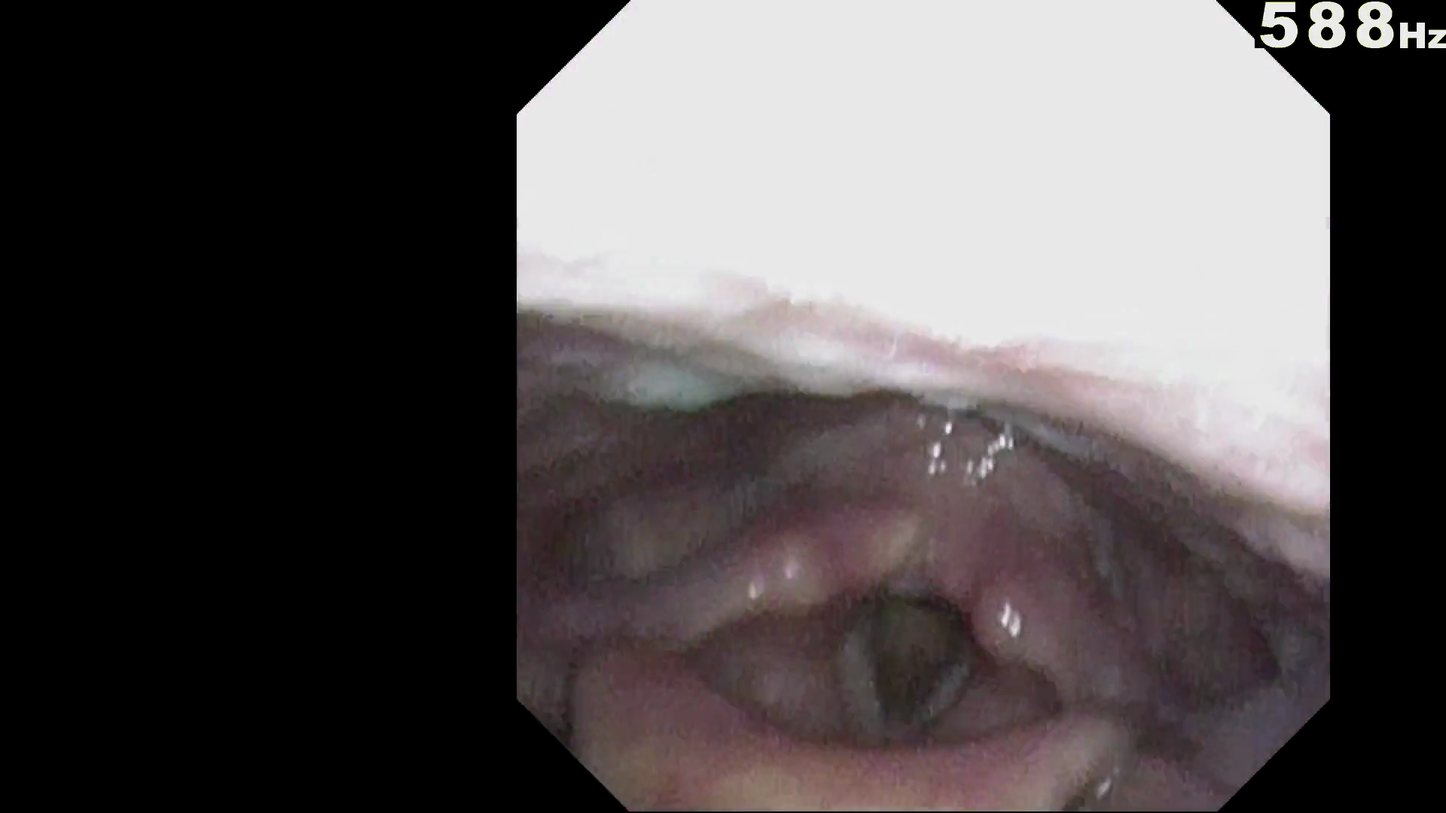epiglottis: (596, 564, 1137, 754)
trachea: (850, 545, 974, 699)
